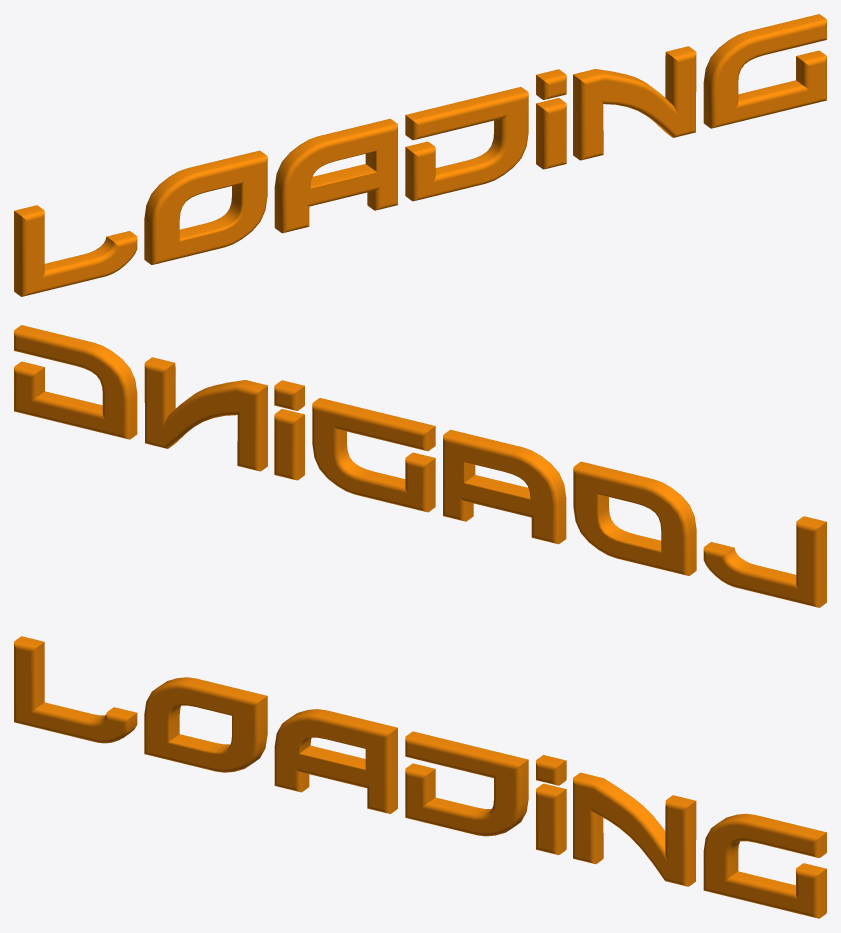
File: Loading.fbx
3 renders of one model, top to bottom at view 1: azimuth 30°, elevation 25°; view 2: azimuth 150°, elevation 25°; view 3: azimuth 330°, elevation 25°, orthographic.
Parts seen in each view (by area): view 1: polymsh6; view 2: polymsh6; view 3: polymsh6.
Boxes of the visible parts, left/top/right/bottom form: polymsh6: left=14, top=14, right=826, bottom=296; polymsh6: left=14, top=325, right=826, bottom=607; polymsh6: left=14, top=636, right=826, bottom=918.
Bounding box in the file's own units: 3.79 × 0.4026 × 0.0906.
